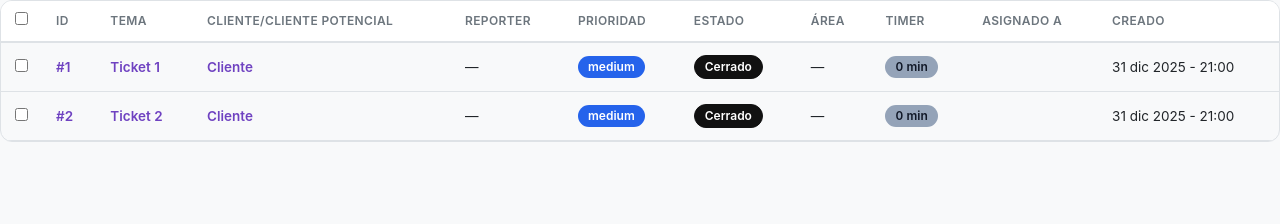
TicketsTableView — bulk bar: Eliminar buttons removed (#7) › bulk soft-delete "Eliminar" is NOT in the bar even with tickets.delete permission
Click the checkbox named "Seleccionar todos": click(22, 18) [15,12,28,25]
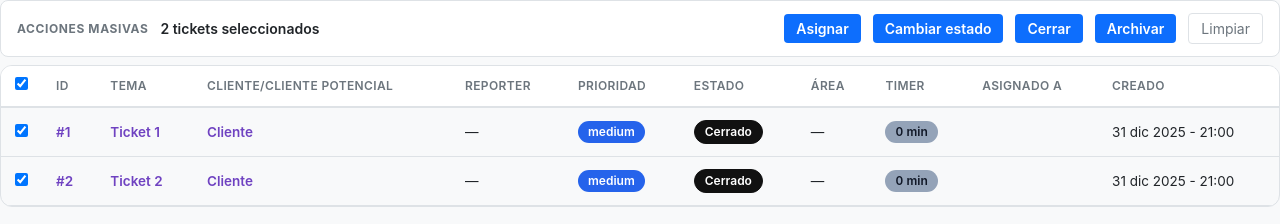
Expected: the element with test id "ticket-bulk-bar" is shown, [0,0,1279,57]
